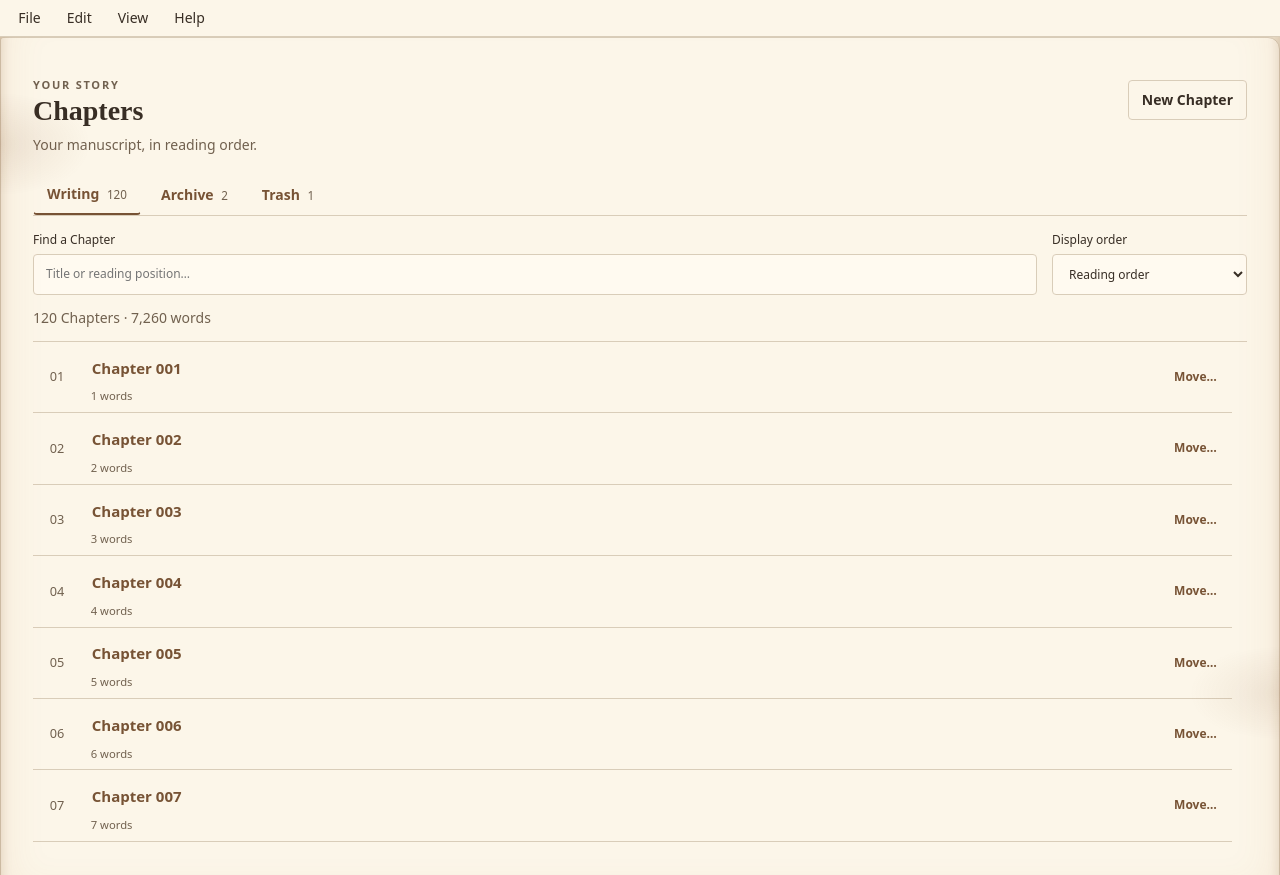
Test: moves a searched Chapter to the full reading-order position rather than a filtered neighbor
Check: the button "Chapter 001" is shown, box [91,349,183,387]
Select "Word count" in the dropdown labelled "Display order" at (1150, 275), box [1052,254,1247,295]
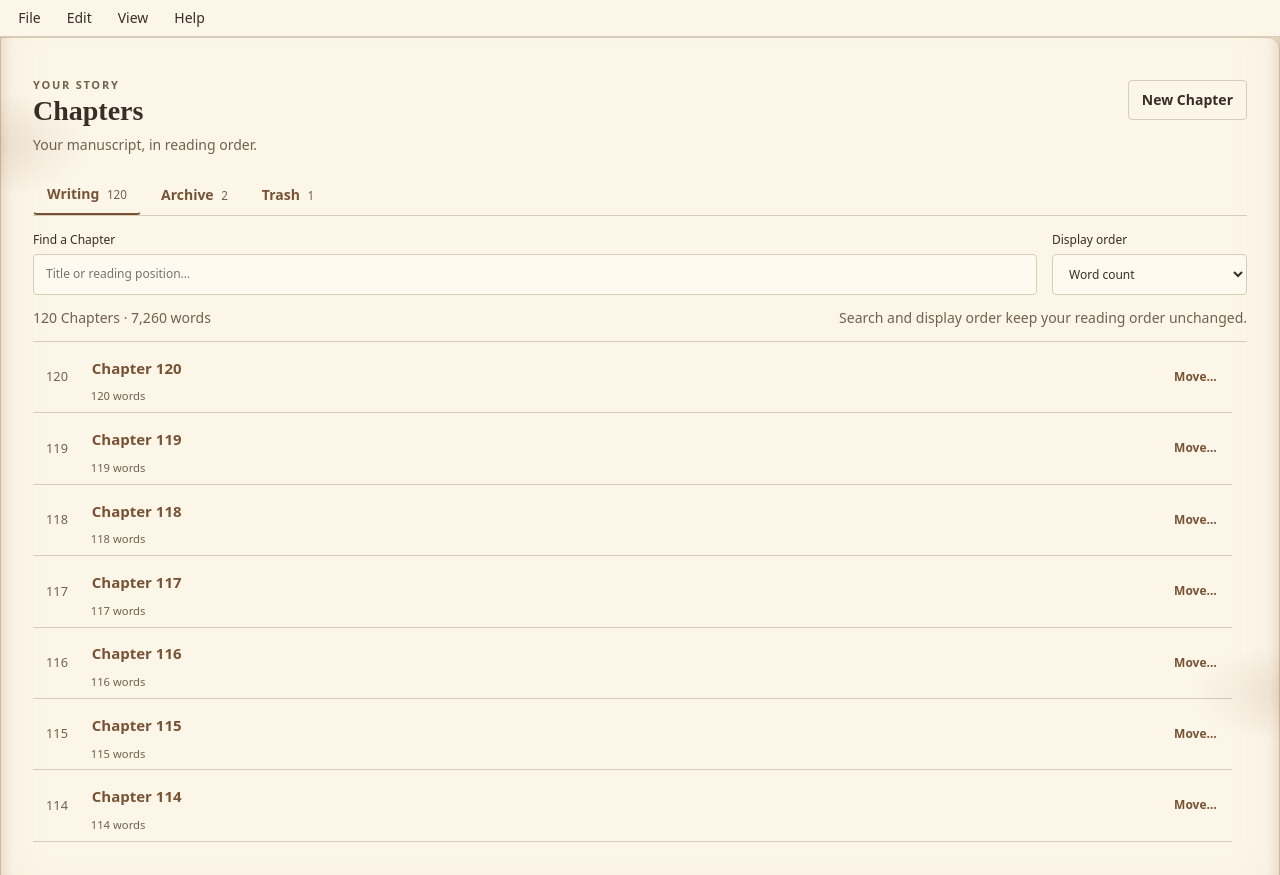
Type "Chapter 099" into the search field at (535, 274), box [33,254,1037,295]
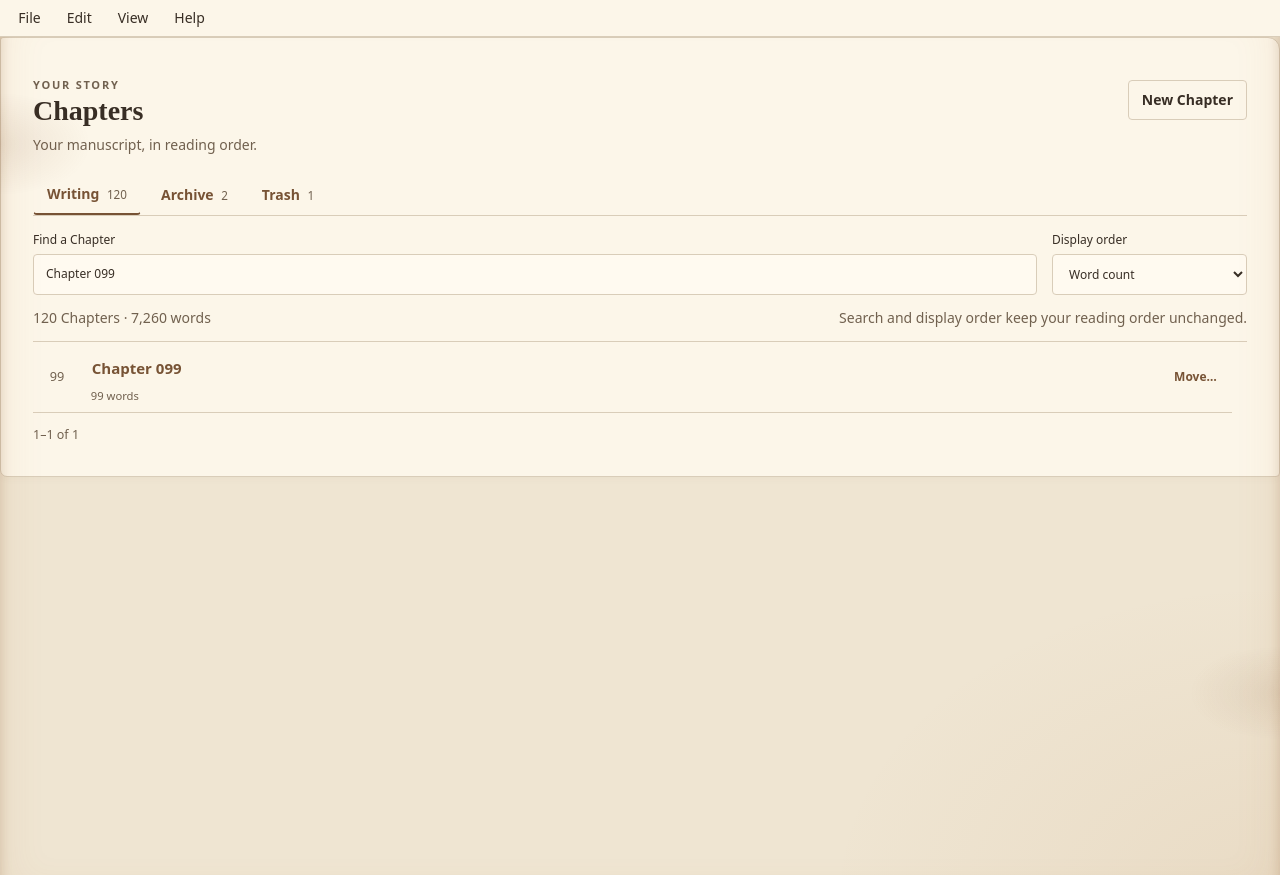
Click the button with aria-label "Move Chapter 099 in reading order" at (1195, 377), box [1164,358,1227,396]
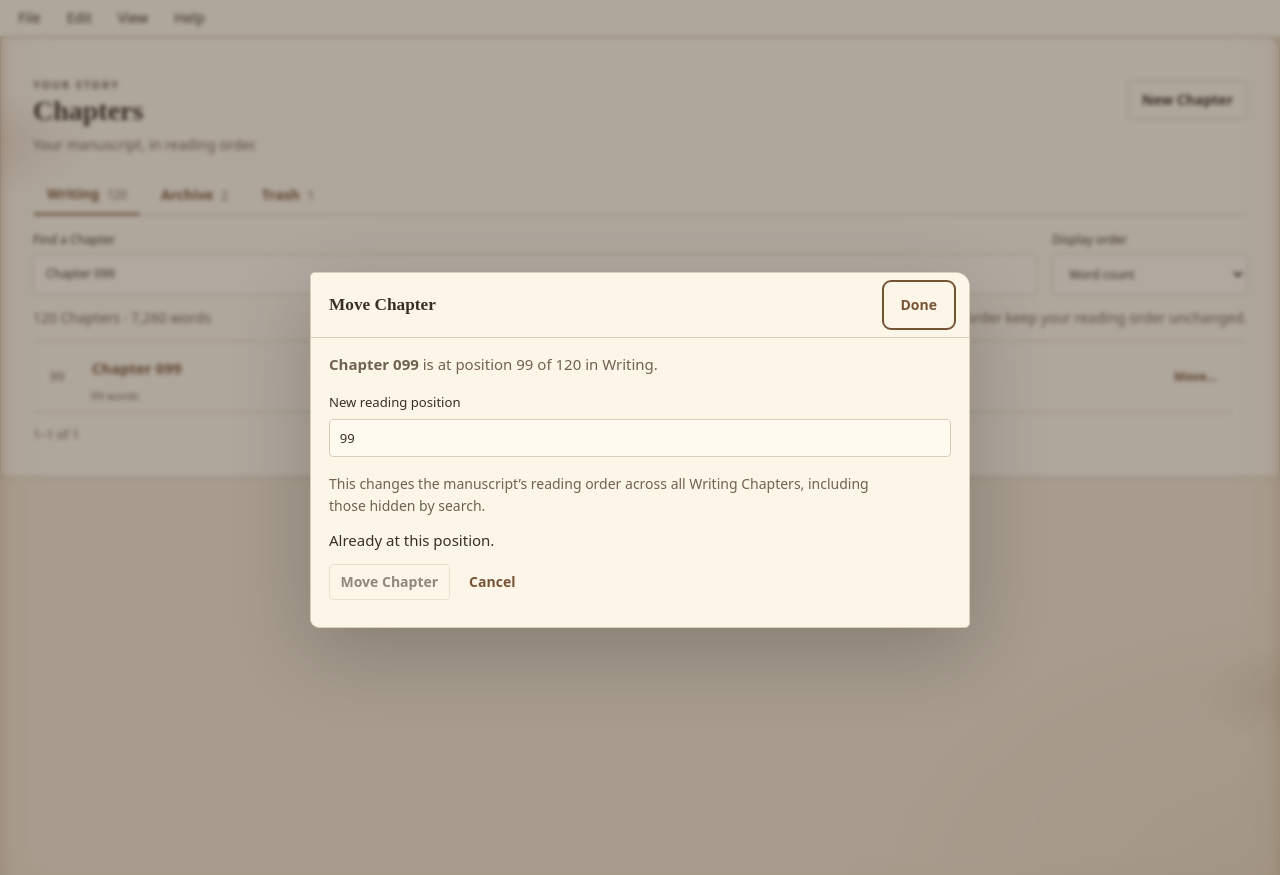
Check: the number field labelled "New reading position" holds "99"
Check: the button "Move Chapter" is disabled, box [329,564,450,600]
Replace the text in the number field labelled "New reading position" with "0" at (640, 438), box [329,419,951,457]
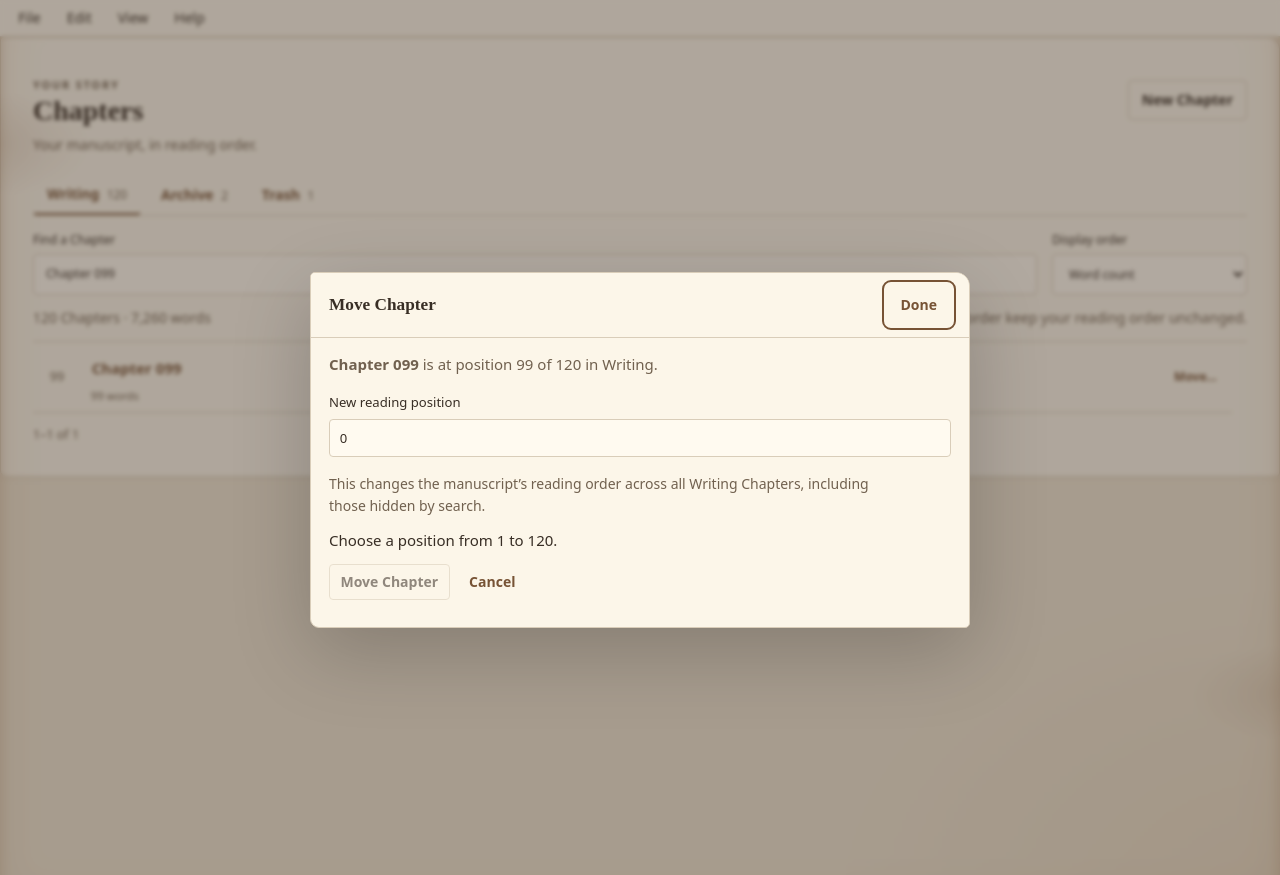
Check: the button "Move Chapter" is disabled, box [329,564,450,600]
Replace the text in the number field labelled "New reading position" with "2" at (640, 438), box [329,419,951,457]
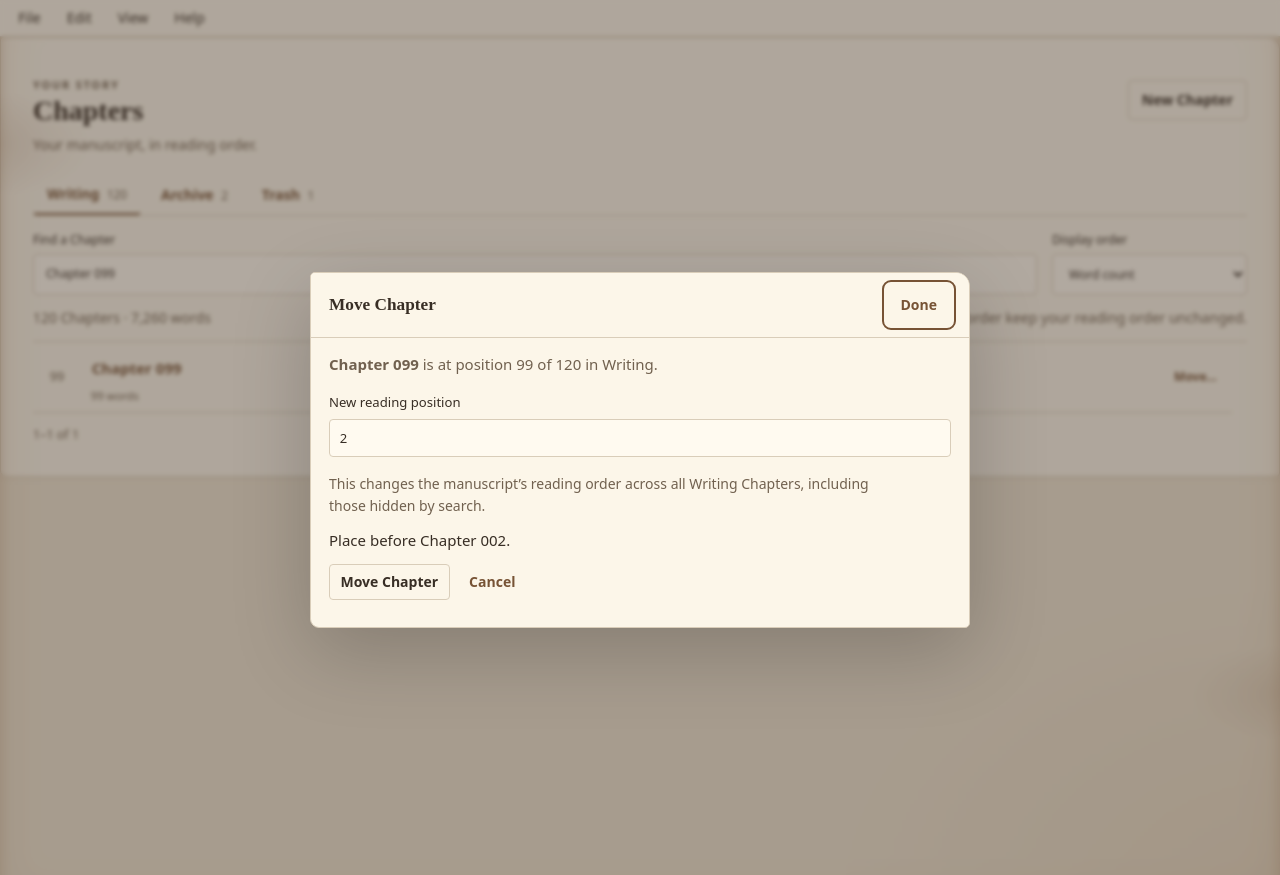
Check: the text "Place before Chapter 002." is shown, box [329,530,510,550]
Click the button "Move Chapter" at (389, 582), box [329,564,450,600]
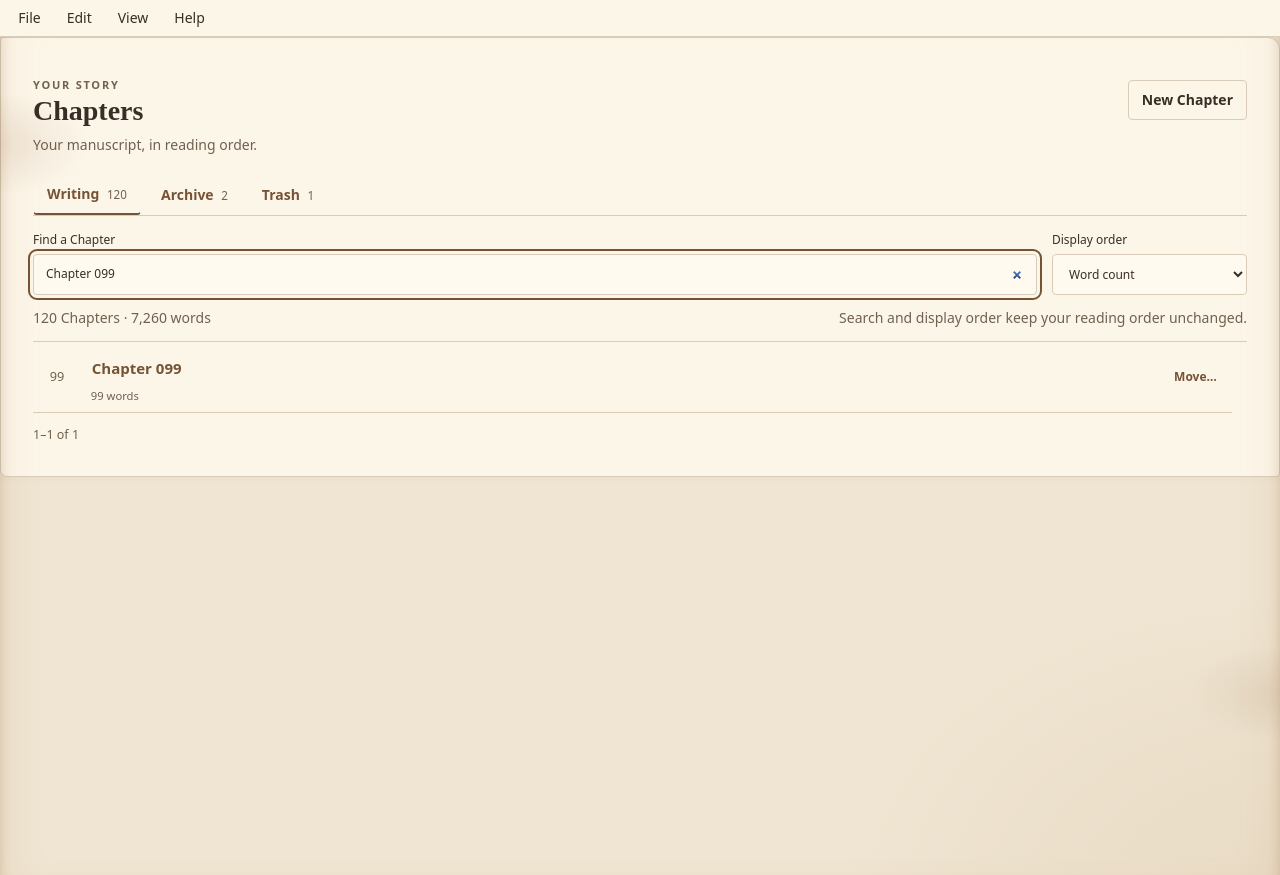
Check: the dialog is gone
